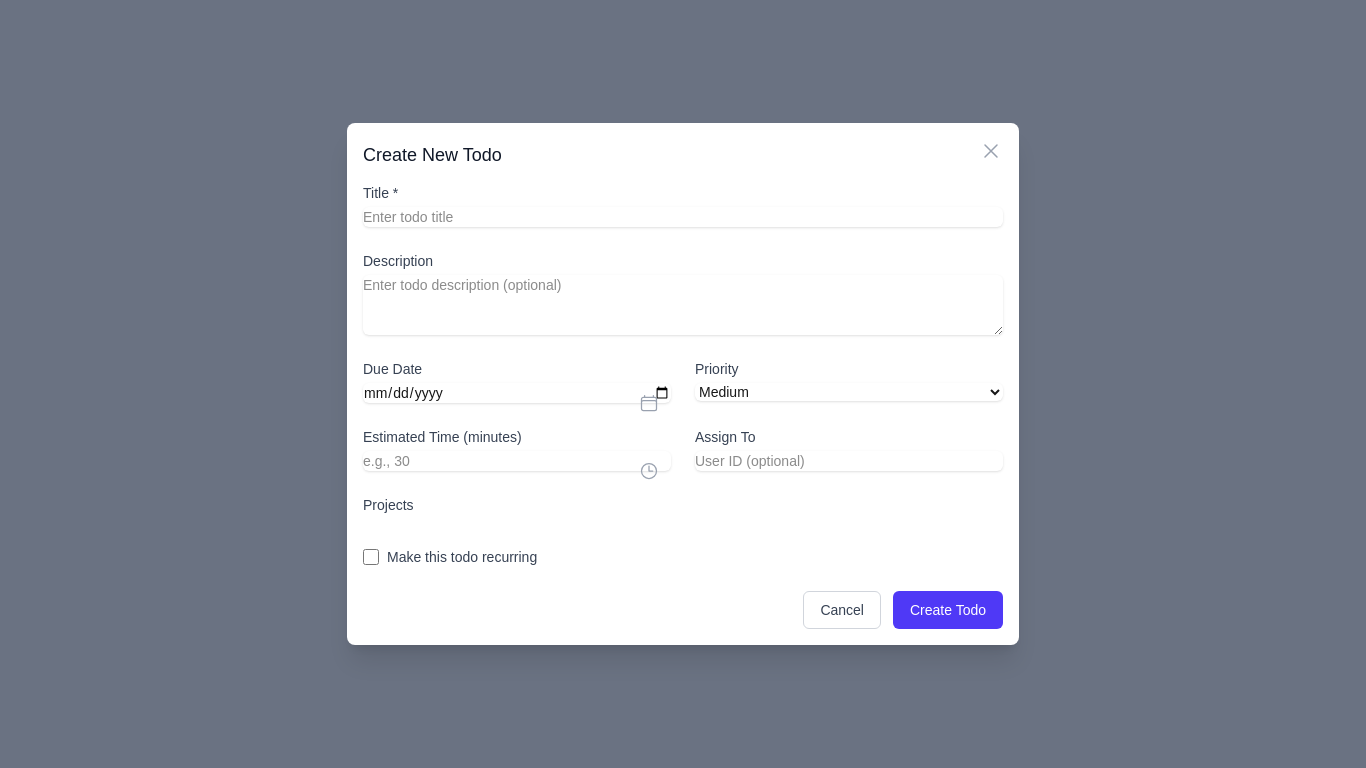
Test: TodoModal › Recurring Pattern › should show recurring pattern section when checkbox is checked
What coordinates should you click on to do the following:
click the checkbox labelled "Make this todo recurring"
I would click on:
 (371, 557)
Its box is [363,549,379,565].
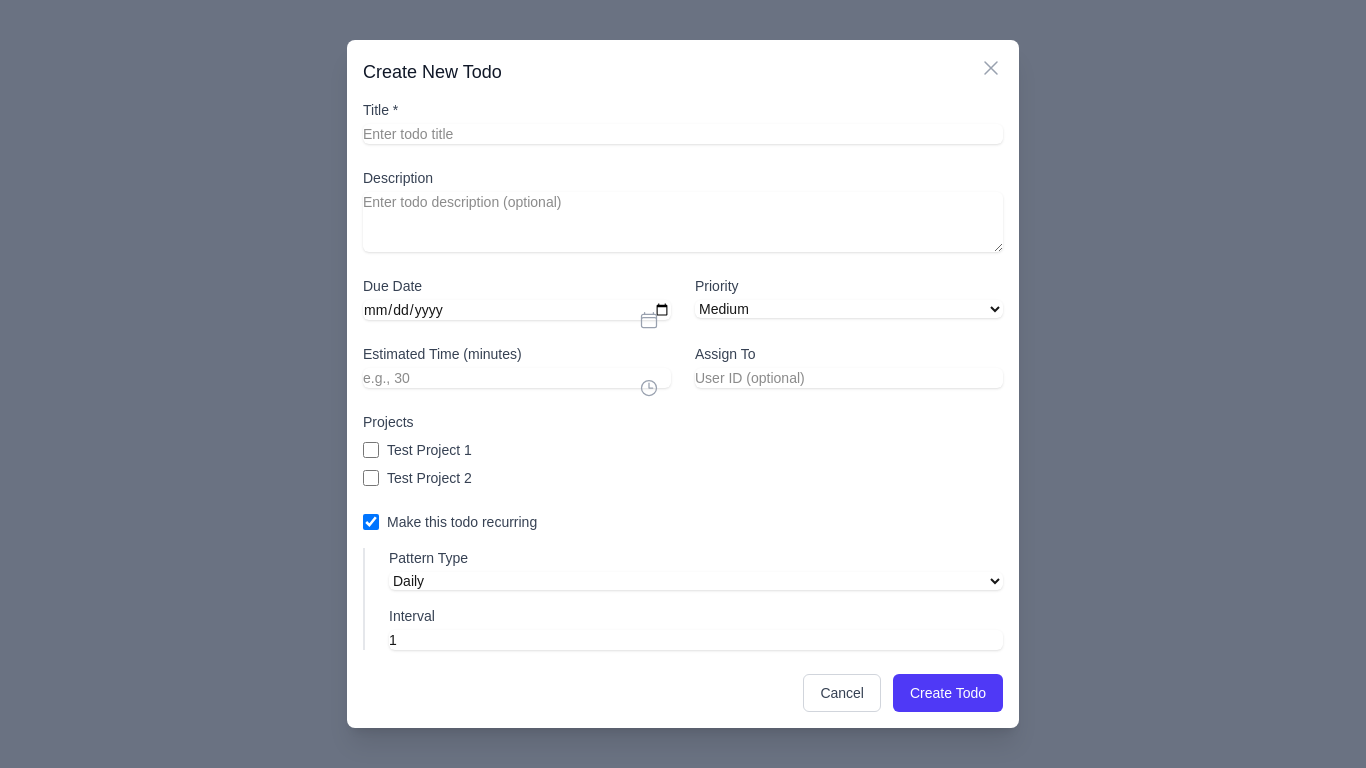
Expected: the text "Pattern Type" is shown, [389,550,468,566]
Expected: the dropdown labelled "Pattern Type" shows "Daily", [389,572,1003,590]
